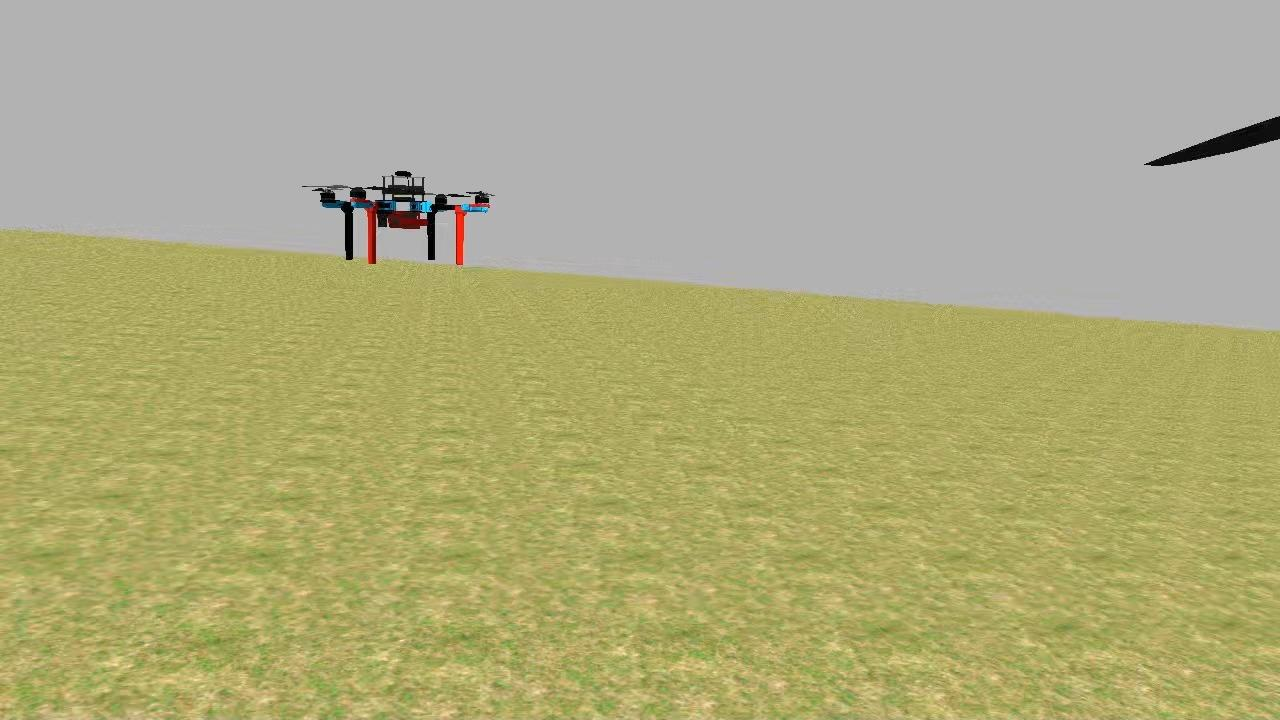UAV: (309, 157, 497, 277)
